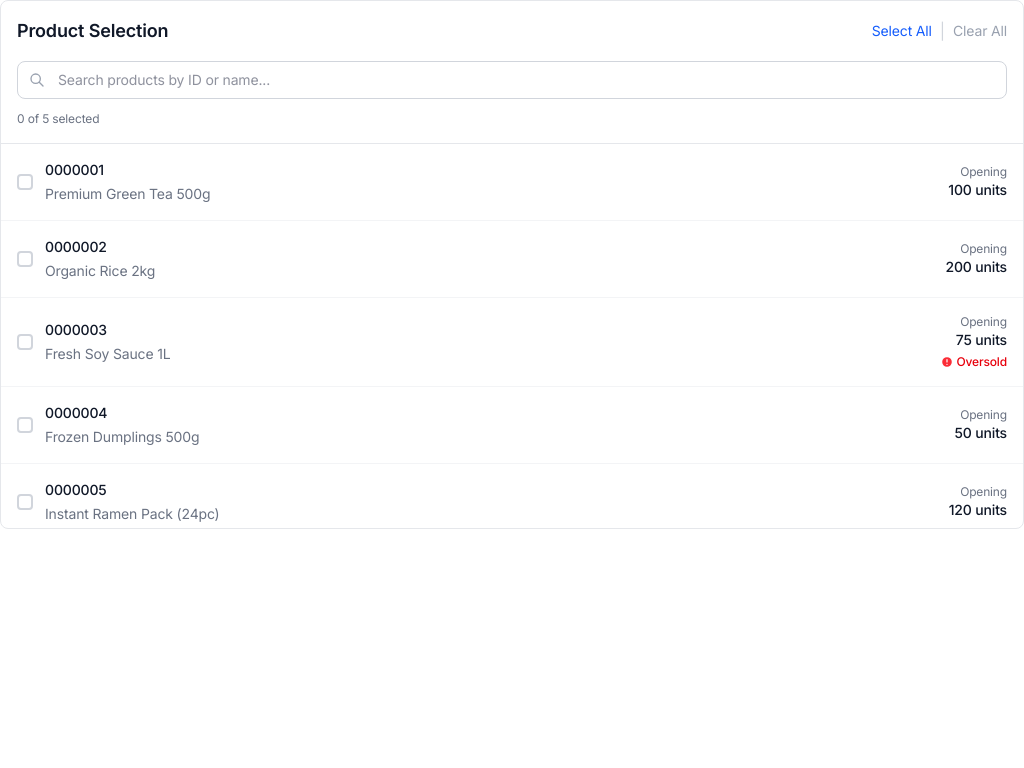
it: ProductSelector › Search Functionality › should filter products by product ID
Type "0000001" into the field with placeholder "Search products by ID or name..." at (512,80), box [17, 61, 1007, 99]
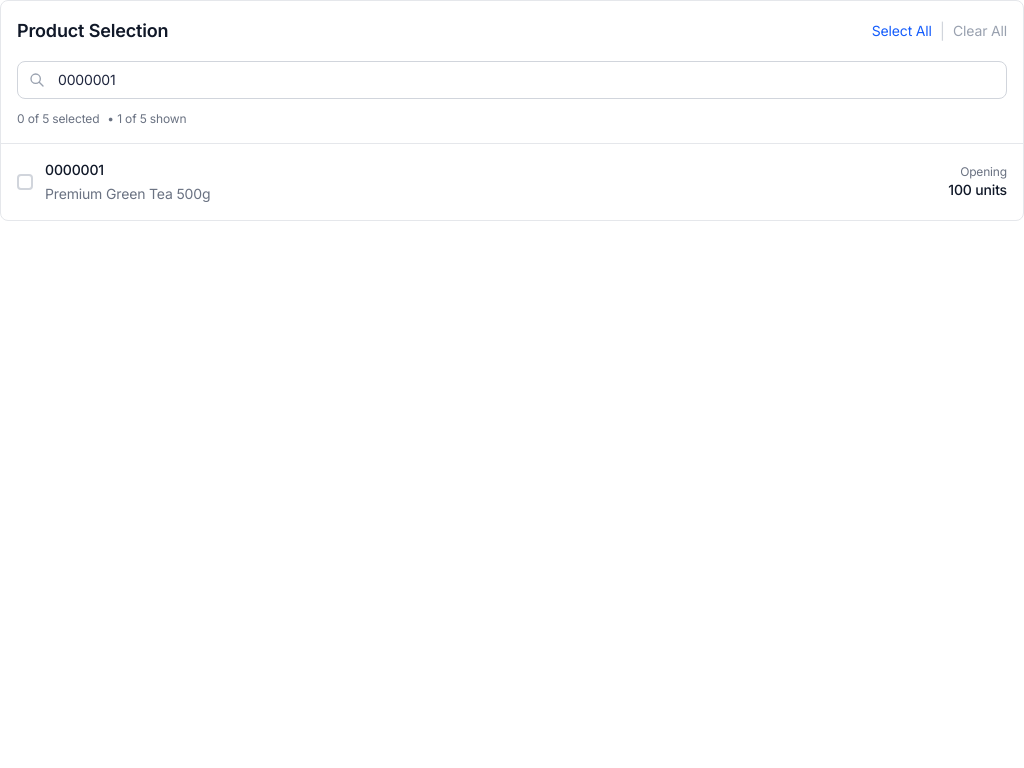
Expected: the text "Premium Green Tea 500g" is shown, [45, 184, 210, 204]
Result: the text "Organic Rice 2kg" is gone
Result: the text "• 1 of 5 shown" is shown at [107, 111, 186, 127]
